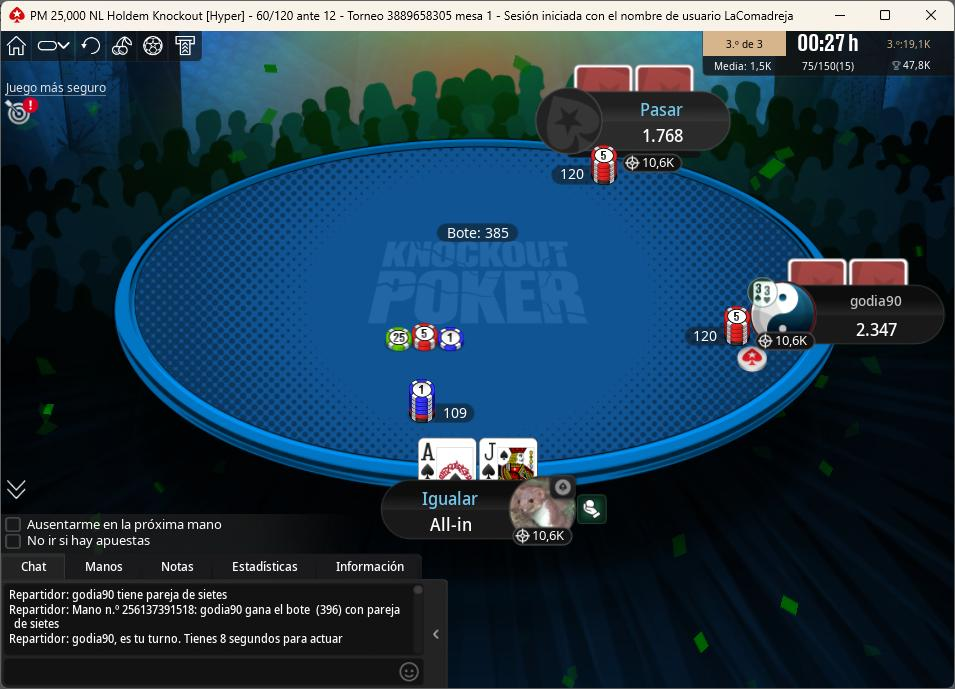Dealer: (731, 339, 772, 382)
HiddenCards: (573, 66, 694, 96), (786, 257, 910, 286)
Player: (745, 281, 945, 350), (538, 93, 727, 158)
PlayerChips: (682, 285, 761, 353), (550, 144, 633, 192), (421, 516, 477, 536), (852, 321, 905, 342)
Pot: (437, 222, 520, 244)
PrincipalBet: (404, 369, 488, 426)
PrincipalCards: (420, 437, 544, 487)
PrincipalCards1: (417, 435, 478, 484)
PrincipalCards2: (479, 435, 542, 486)
PrincipalPlayer: (378, 479, 584, 549)
SmallBigBlind: (248, 5, 348, 29)
TablePot: (376, 315, 505, 358)
